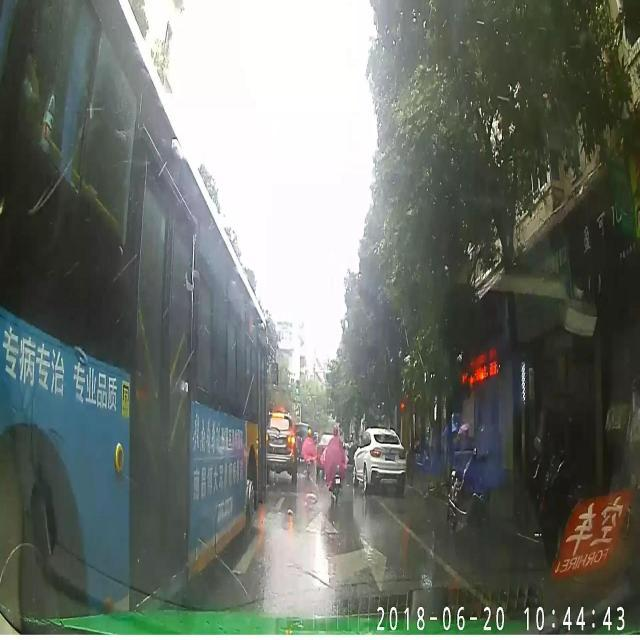car: (351, 425, 407, 488), (263, 408, 298, 482)
